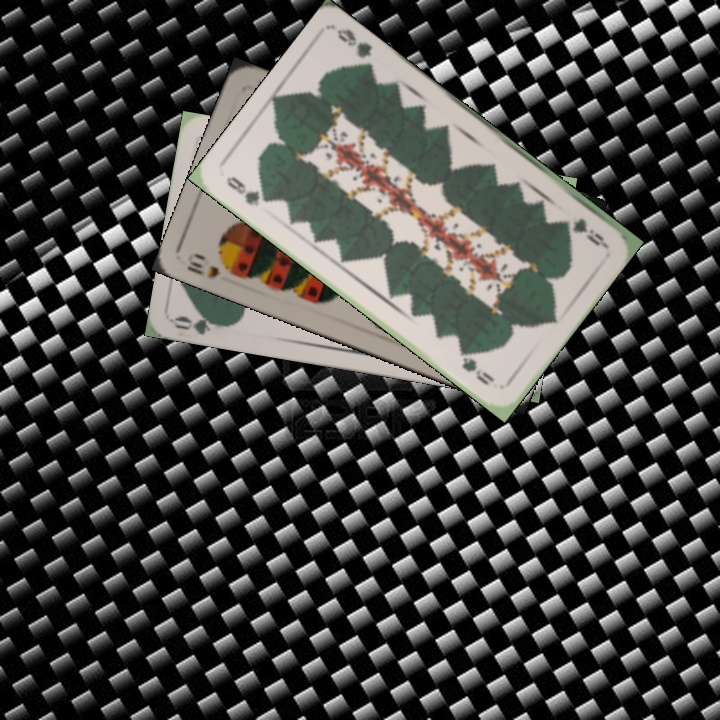G9: (222, 172, 274, 209), (559, 213, 609, 249)
GO: (171, 308, 231, 337)
S10: (182, 248, 239, 282)
